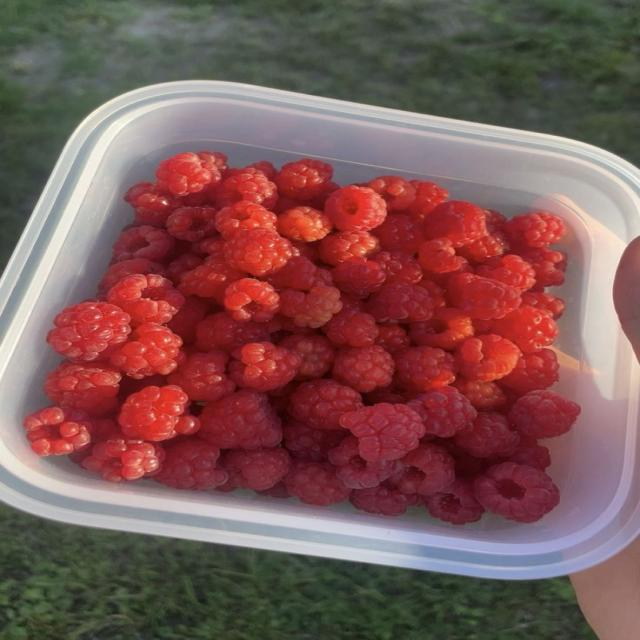raspberry: (474, 462, 559, 522), (47, 302, 131, 362), (200, 390, 281, 449), (340, 404, 424, 460), (45, 363, 121, 416), (107, 274, 184, 326), (118, 385, 188, 441), (111, 323, 182, 378), (290, 379, 363, 432), (328, 436, 401, 489), (82, 436, 164, 482), (154, 439, 227, 490), (407, 386, 477, 437), (230, 342, 301, 391), (167, 350, 235, 401), (508, 391, 580, 438), (23, 407, 93, 455), (448, 274, 520, 319), (225, 229, 293, 276), (284, 459, 351, 505), (455, 334, 519, 381), (196, 312, 271, 352), (179, 256, 244, 302), (398, 443, 455, 495), (494, 306, 558, 352), (455, 412, 519, 457), (333, 345, 394, 392), (156, 152, 221, 196), (423, 201, 486, 246), (224, 448, 291, 490), (409, 307, 473, 350), (325, 186, 386, 230), (280, 285, 342, 328), (425, 480, 484, 525), (500, 349, 559, 394), (395, 347, 455, 391), (283, 420, 347, 461), (279, 334, 335, 380), (367, 283, 433, 322), (224, 278, 279, 322), (274, 159, 333, 200), (124, 183, 179, 226), (215, 201, 277, 239), (99, 258, 166, 293), (112, 226, 174, 263), (438, 439, 495, 479), (475, 255, 535, 292), (505, 212, 566, 248), (332, 258, 386, 298), (272, 182, 339, 214), (269, 256, 332, 290), (216, 173, 277, 208), (372, 214, 424, 254), (323, 310, 379, 347), (319, 231, 379, 265), (349, 486, 416, 516), (278, 206, 332, 242), (167, 297, 209, 343), (166, 207, 217, 242), (521, 248, 566, 287), (365, 176, 415, 211), (453, 377, 506, 410), (457, 231, 509, 264), (419, 238, 466, 273), (408, 180, 448, 220), (373, 252, 422, 284), (420, 262, 473, 290), (508, 438, 551, 470), (119, 375, 166, 403), (167, 253, 204, 286), (522, 293, 565, 319), (374, 325, 410, 354), (267, 382, 295, 416), (224, 164, 276, 181), (418, 279, 446, 309), (363, 385, 405, 405), (192, 237, 226, 261), (91, 418, 120, 443), (170, 414, 199, 438), (198, 151, 228, 173), (292, 241, 319, 264), (247, 161, 277, 181), (258, 481, 291, 498), (485, 209, 506, 233), (473, 319, 494, 336)
